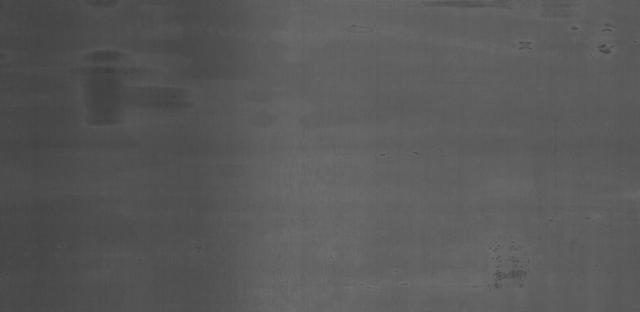water_spot: (481, 253, 532, 303)
